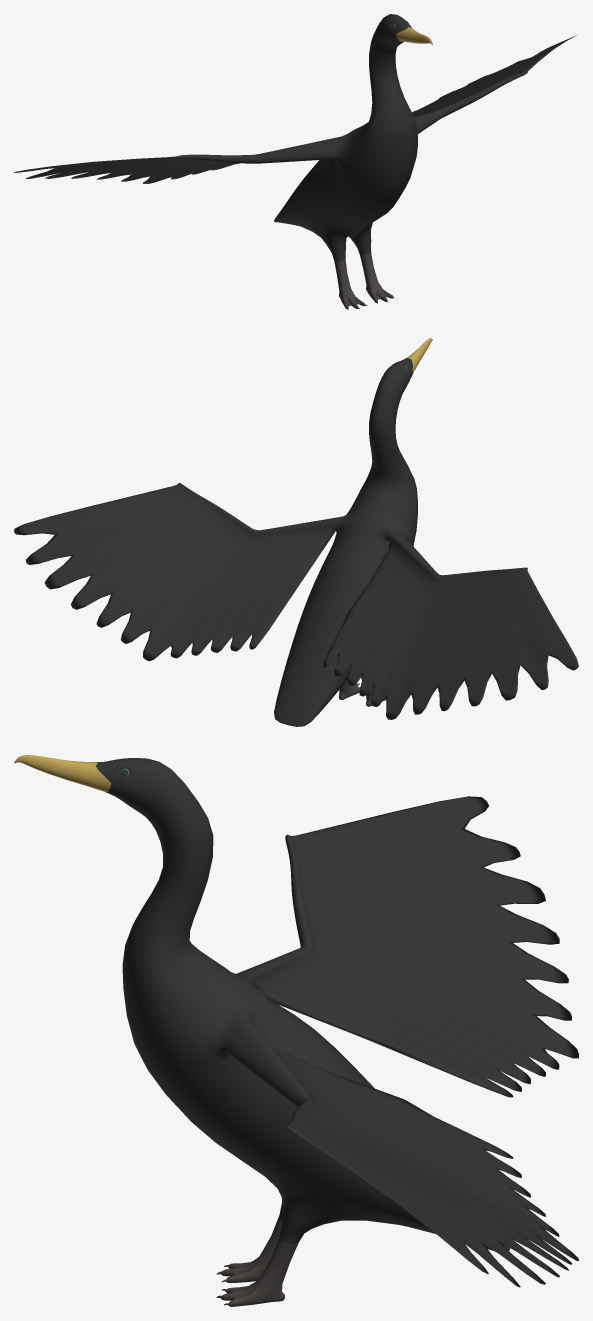
File: Cormorant.fbx
3 views of the same model, one above another, from view 1: azimuth 30°, elevation 25°; view 2: azimuth 150°, elevation 25°; view 3: azimuth 270°, elevation 25° (orthographic). The views are drawn at different scales.
Visible parts, largest first — view 1: Cube; view 2: Cube; view 3: Cube.
Boxes of the visible parts, <box> form: Cube: <box>14,14,576,309</box>; Cube: <box>14,338,578,726</box>; Cube: <box>14,755,578,1306</box>.
Bounding box in the file's own units: 171 × 89.79 × 86.09.
